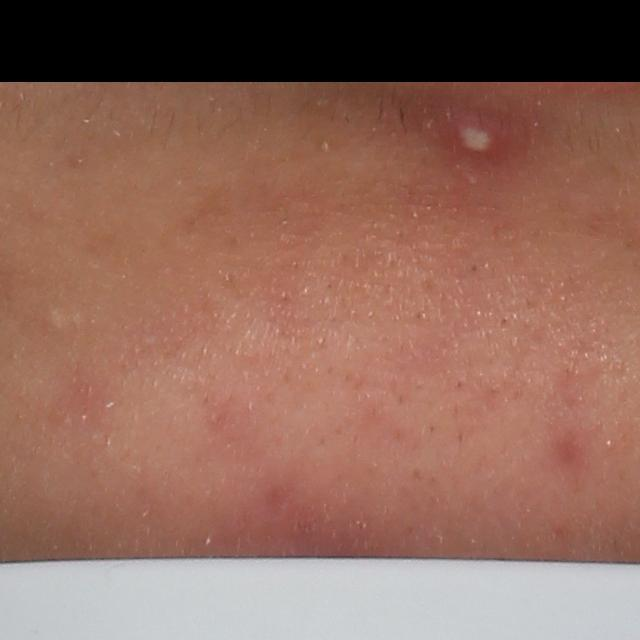comedo: (47, 306, 73, 336)
pustule: (447, 117, 521, 169)
